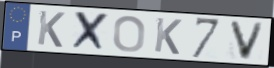7: (191, 16, 223, 60)
K: (152, 16, 184, 56), (35, 9, 67, 49)
O: (112, 14, 147, 54)
V: (228, 19, 268, 62)
X: (69, 10, 111, 54)
